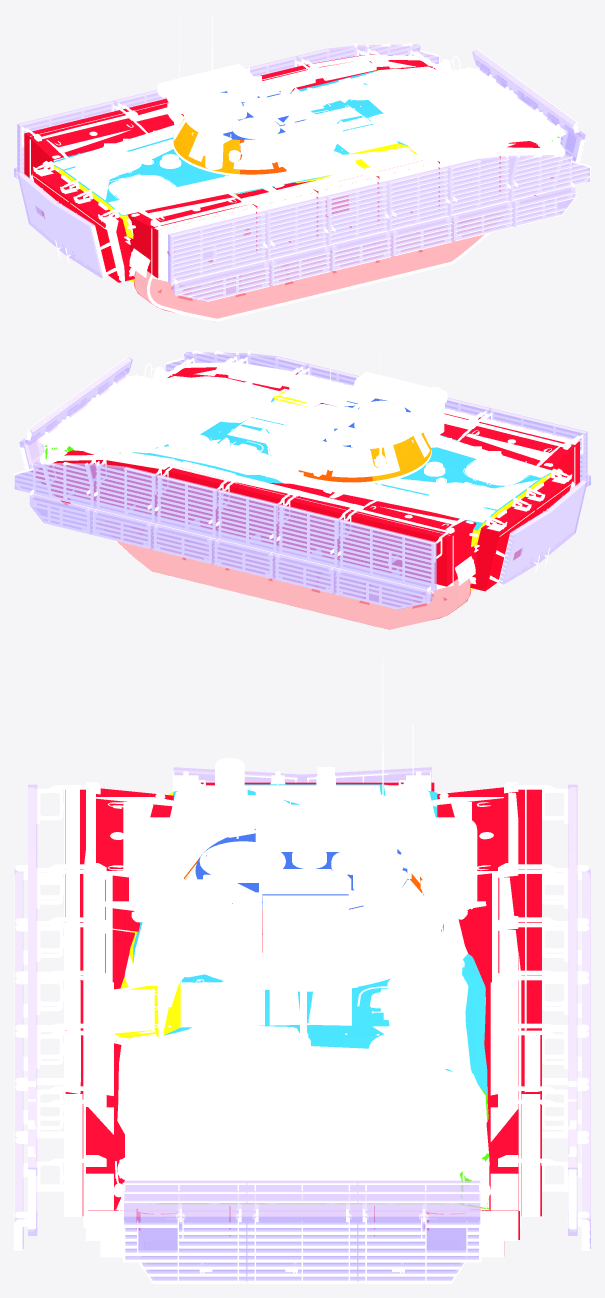
File: BMP2M.gltf
3 renders of one model, top to bottom at view 1: azimuth 30°, elevation 25°; view 2: azimuth 150°, elevation 25°; view 3: azimuth 270°, elevation 25°, orthographic. The views are drawn at different scales.
Parts seen in each view (by area): view 1: BMP2M_2, SM_BMP2M_Cage_Col1_16, BMP2M, SM_BMP2M_Hull_Col_4, bmp1_track_col_Right_25, BMP2M_9, BMP2M_3, BMP2M_6, SM_BMP2M_Hull_Col, BMP2M_1, BMP2M_8, BMP2M_5 (+3 smaller); view 2: BMP2M_2, SM_BMP2M_Cage_Col1_16, BMP2M, SM_BMP2M_Hull_Col_4, bmp1_track_col_Left_22, BMP2M_9, BMP2M_4, BMP2M_6, SM_BMP2M_Hull_Col, BMP2M_8, BMP2M_1, BMP2_Turret_Col001_2 (+4 smaller); view 3: BMP2M_2, BMP2M, SM_BMP2M_Cage_Col1_16, BMP2M_9, SM_BMP2M_Hull_Col_4, BMP2M_8, BMP2M_6, BMP2M_1, SM_BMP2M_Hull_Col, BMP2M_5, BMP2M_7, SM_BMP2M_Hull_Col_2 (+2 smaller).
Boxes of the visible parts, box(x1,y1,x2,y2) form: BMP2M_2: box(15, 42, 590, 301); SM_BMP2M_Cage_Col1_16: box(14, 44, 589, 301); BMP2M: box(52, 56, 566, 309); SM_BMP2M_Hull_Col_4: box(24, 54, 553, 282); bmp1_track_col_Right_25: box(134, 235, 483, 318); BMP2M_9: box(173, 67, 337, 169); BMP2M_3: box(134, 209, 512, 321); BMP2M_6: box(157, 64, 332, 165); SM_BMP2M_Hull_Col: box(52, 70, 408, 215); BMP2M_1: box(317, 107, 413, 165); BMP2M_8: box(173, 14, 347, 171); BMP2M_5: box(273, 69, 442, 115); BMP2M_2: box(14, 350, 589, 609); SM_BMP2M_Cage_Col1_16: box(14, 352, 590, 609); BMP2M: box(38, 363, 553, 617); SM_BMP2M_Hull_Col_4: box(32, 367, 579, 591); bmp1_track_col_Left_22: box(117, 541, 470, 629); BMP2M_9: box(267, 396, 444, 477); BMP2M_4: box(92, 517, 470, 629); BMP2M_6: box(271, 372, 447, 472); SM_BMP2M_Hull_Col: box(133, 397, 551, 530); BMP2M_8: box(257, 355, 413, 475); BMP2M_1: box(229, 388, 331, 442); BMP2_Turret_Col001_2: box(371, 432, 431, 480); BMP2M_2: box(14, 769, 590, 1283); BMP2M: box(113, 780, 490, 1213); SM_BMP2M_Cage_Col1_16: box(14, 767, 590, 1281); BMP2M_9: box(159, 785, 444, 969); SM_BMP2M_Hull_Col_4: box(65, 782, 541, 1239); BMP2M_8: box(160, 658, 442, 986); BMP2M_6: box(129, 767, 477, 918); BMP2M_1: box(114, 983, 349, 1029); SM_BMP2M_Hull_Col: box(133, 784, 487, 1094); BMP2M_5: box(282, 898, 339, 1052); BMP2M_7: box(130, 886, 475, 910); SM_BMP2M_Hull_Col_2: box(115, 792, 488, 1115).
Size of the model in its own units: 7.43 by 3.53 by 4.3.
